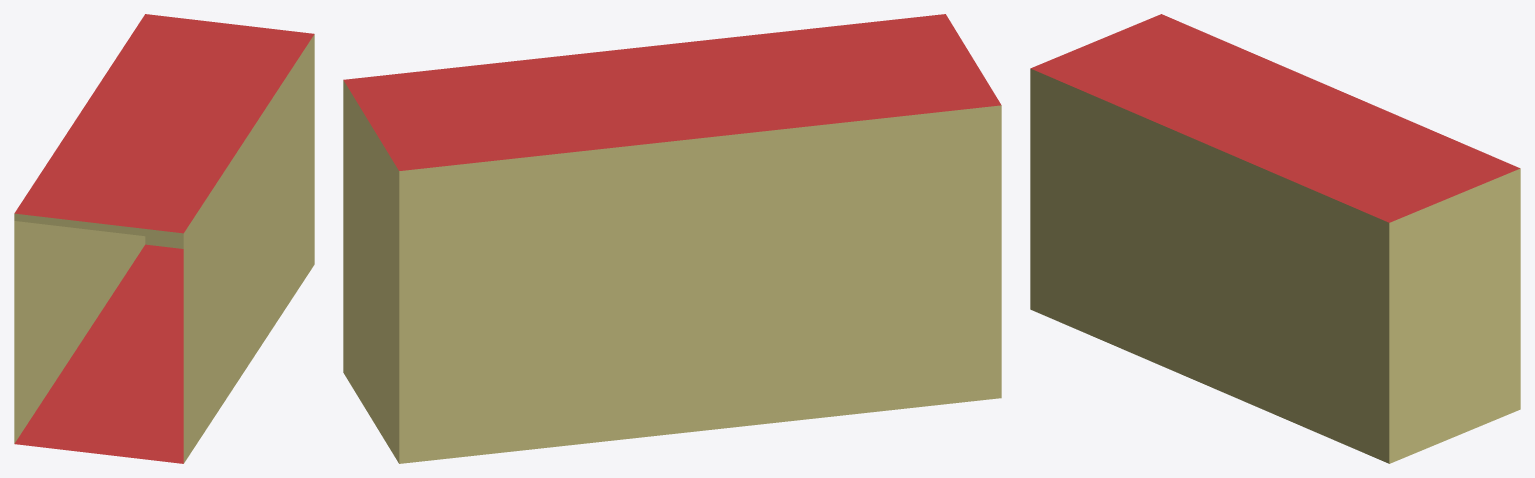
3 renders of one model, left to right at view 1: azimuth 30°, elevation 25°; view 2: azimuth 150°, elevation 25°; view 3: azimuth 270°, elevation 25°, orthographic. The views are drawn at different scales.
Bounding box in the file's own units: 19.29 × 19.13 × 10.38.
